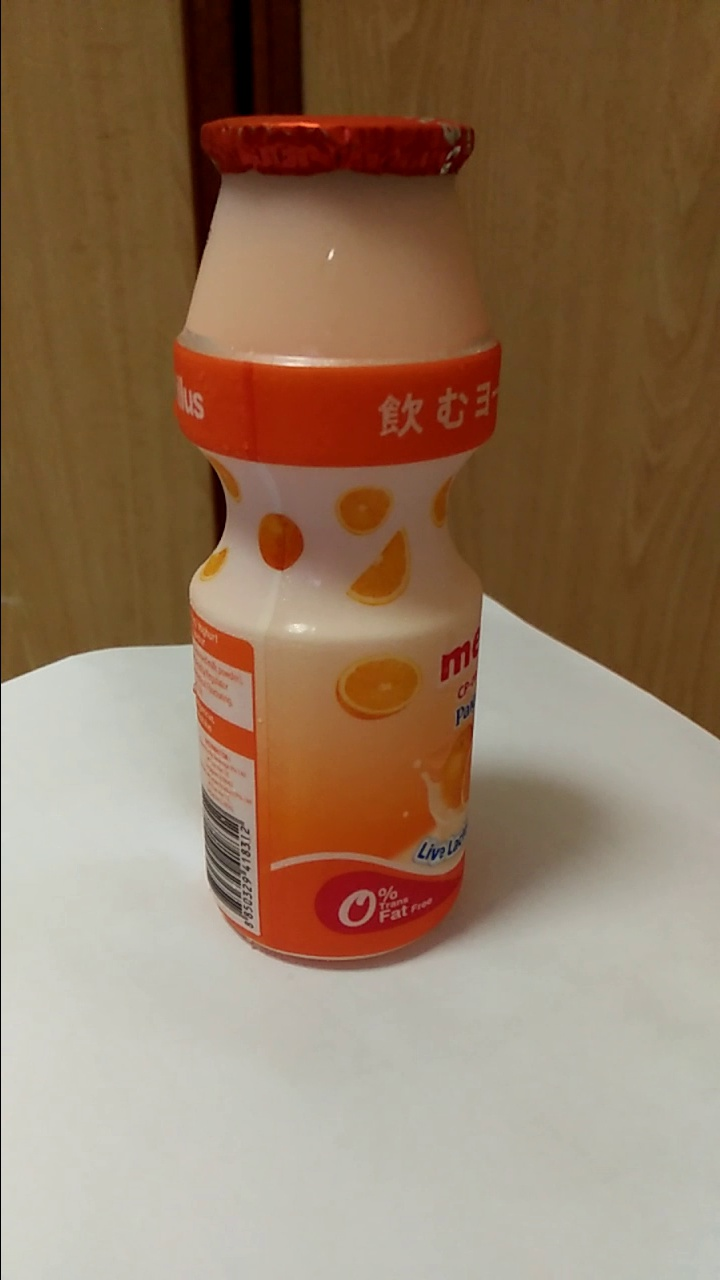milk: (174, 112, 476, 963)
